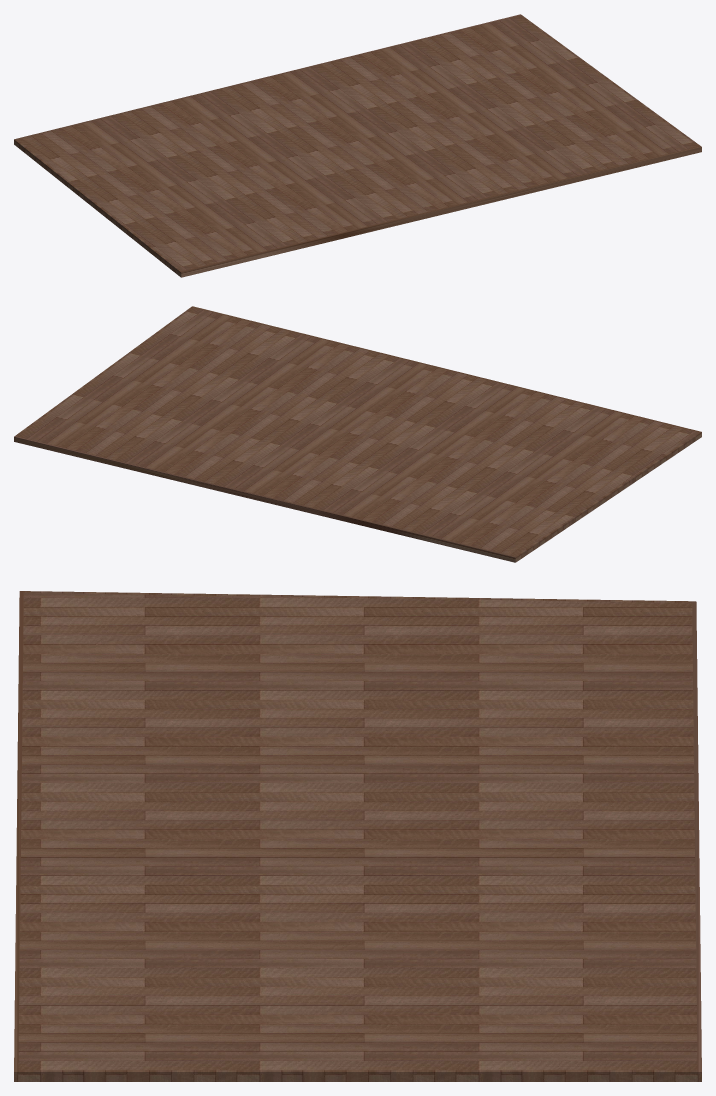
The picture shows the model from 3 angles, top to bottom: view 1: azimuth 30°, elevation 25°; view 2: azimuth 150°, elevation 25°; view 3: azimuth 270°, elevation 25°; orthographic projection. The views are drawn at different scales.
Visible parts, largest first — view 1: Floor#0_2; view 2: Floor#0_2; view 3: Floor#0_2.
Part boxes in pixels (x1,y1,x2,y2): Floor#0_2: (14,14,701,277); Floor#0_2: (14,306,701,562); Floor#0_2: (14,591,701,1081).
Bounding box in the file's own units: 5.2 × 0.05 × 3.14.
1 material, 1 textured.
